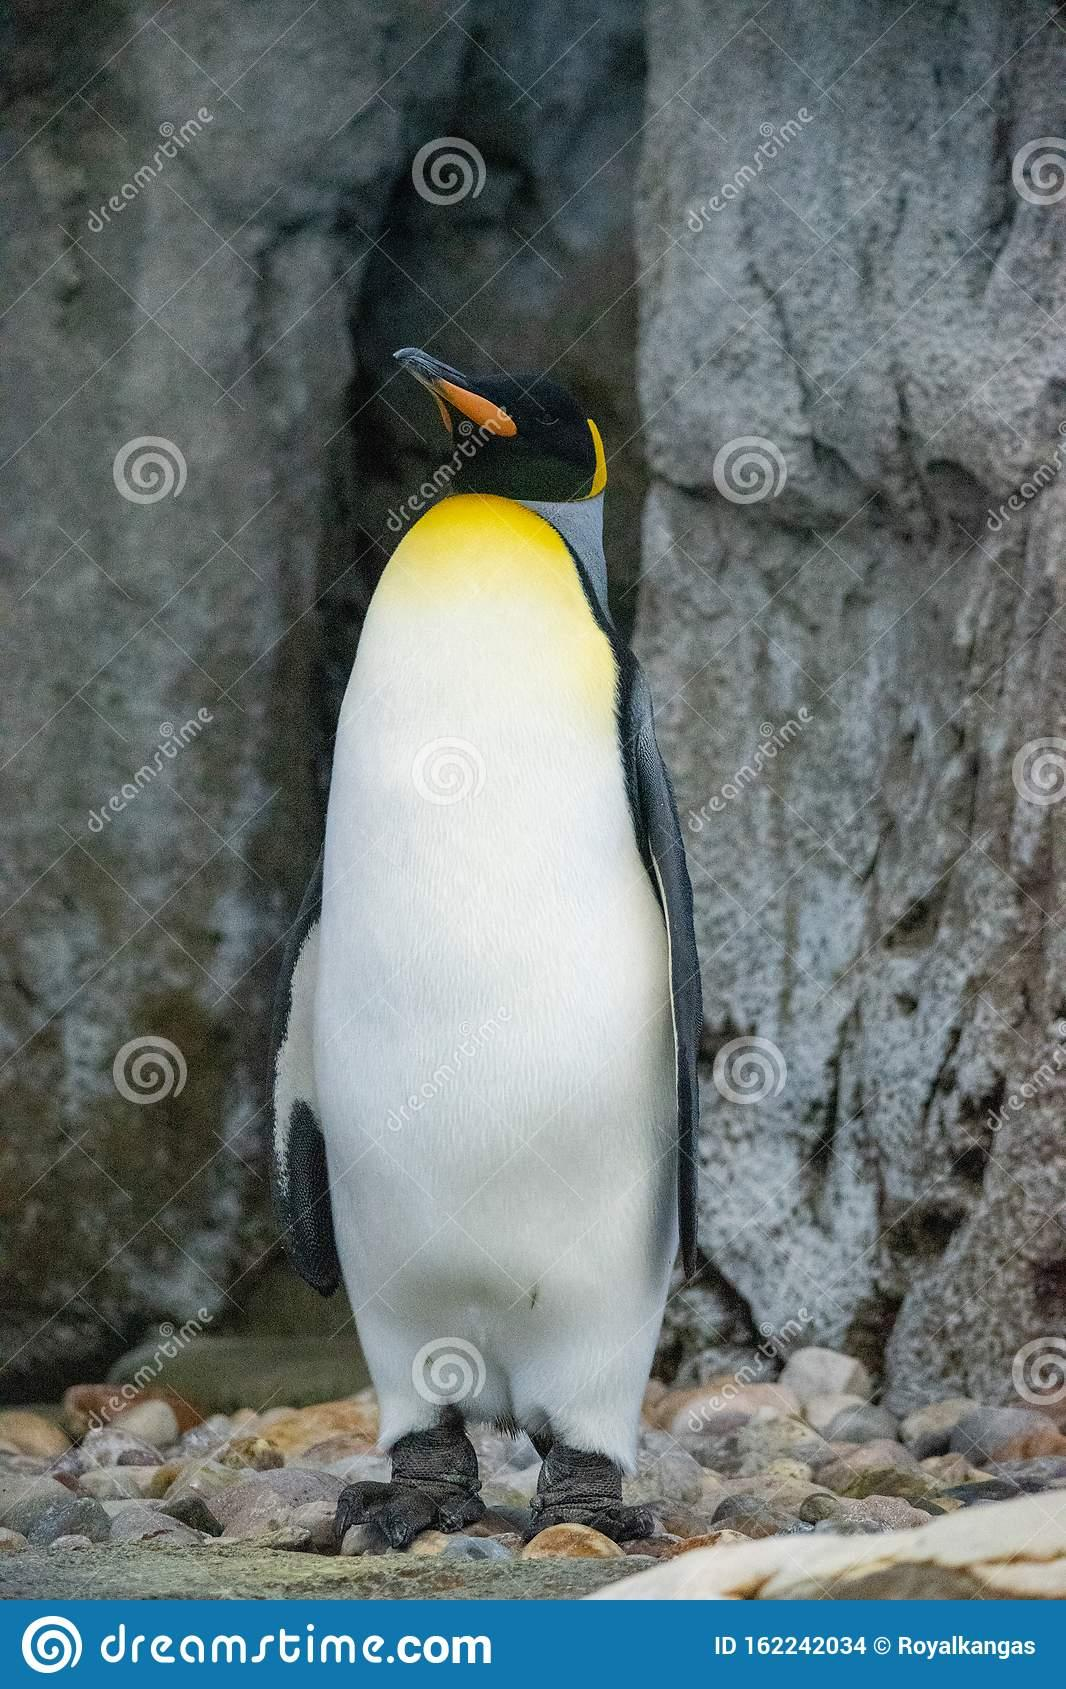king: (182, 300, 818, 1593)
